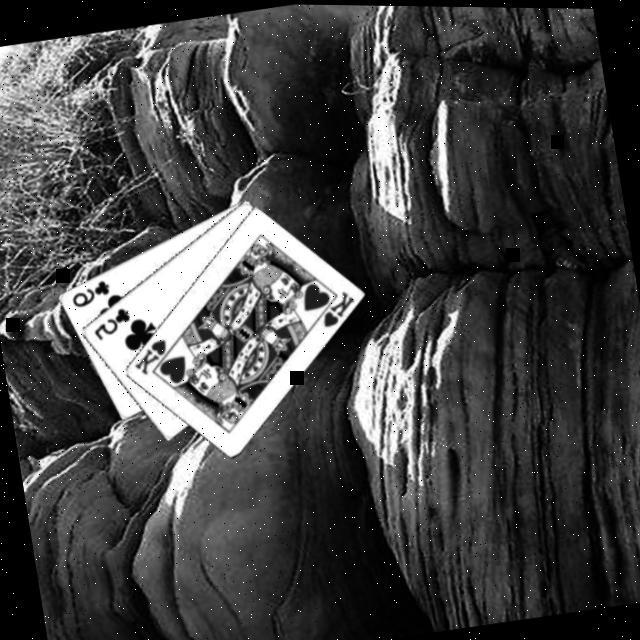5C: (85, 302, 134, 344)
9C: (64, 274, 112, 310)
KH: (312, 284, 358, 331), (126, 334, 172, 379)
